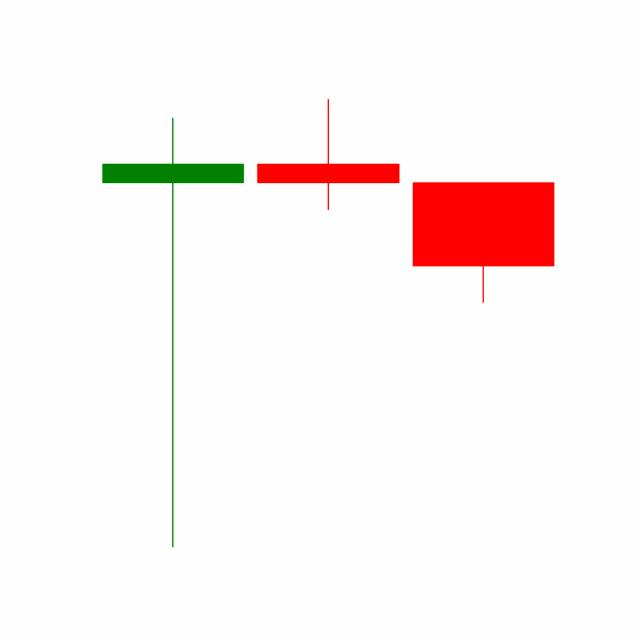Spinning Top: (249, 97, 406, 211)
